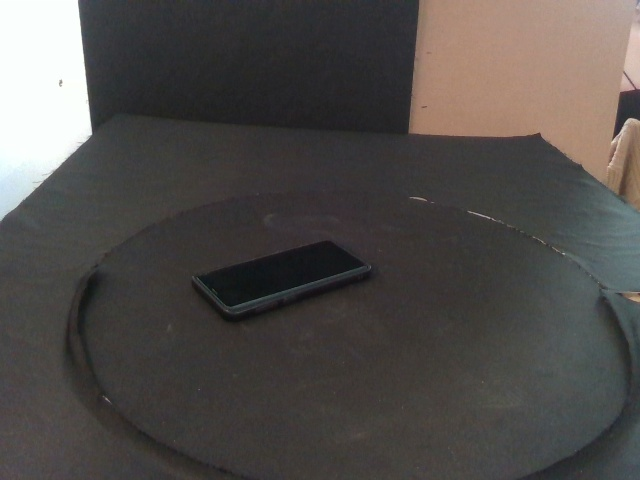phone: (190, 239, 371, 321)
